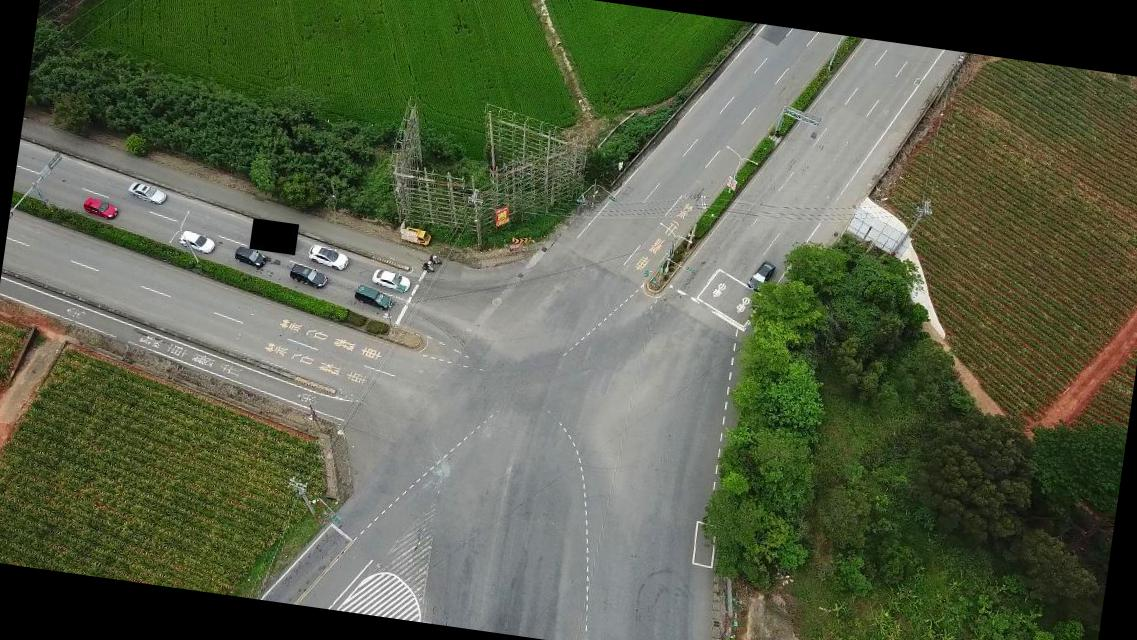vehicle: (352, 281, 394, 314), (287, 262, 332, 292), (369, 266, 414, 295), (304, 244, 350, 271), (78, 196, 122, 223), (125, 179, 168, 204), (231, 242, 268, 270), (176, 229, 215, 253), (748, 258, 775, 292), (400, 224, 432, 248)
